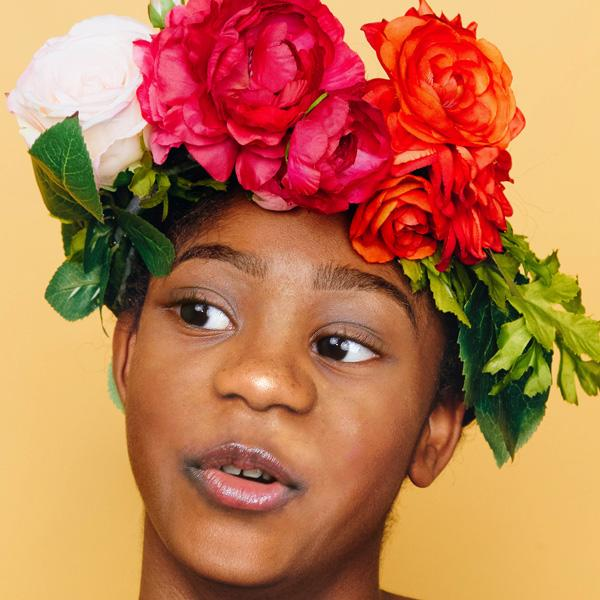Eyes: (298, 314, 391, 378), (158, 278, 242, 342)
